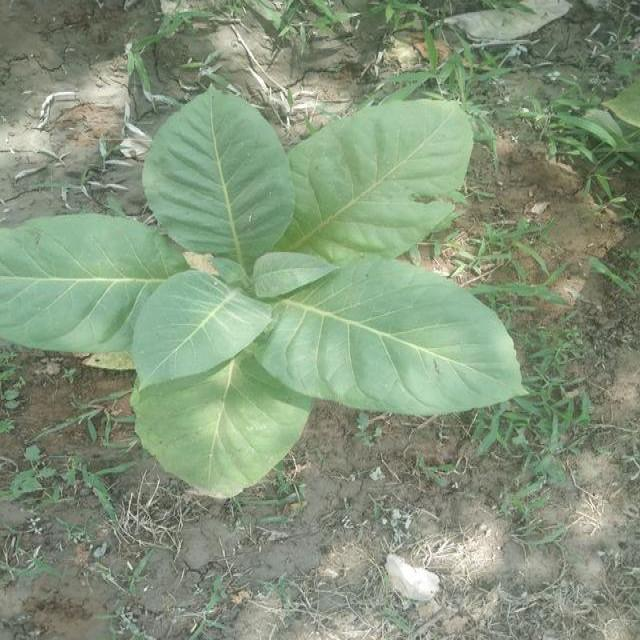crop: (8, 84, 512, 505)
